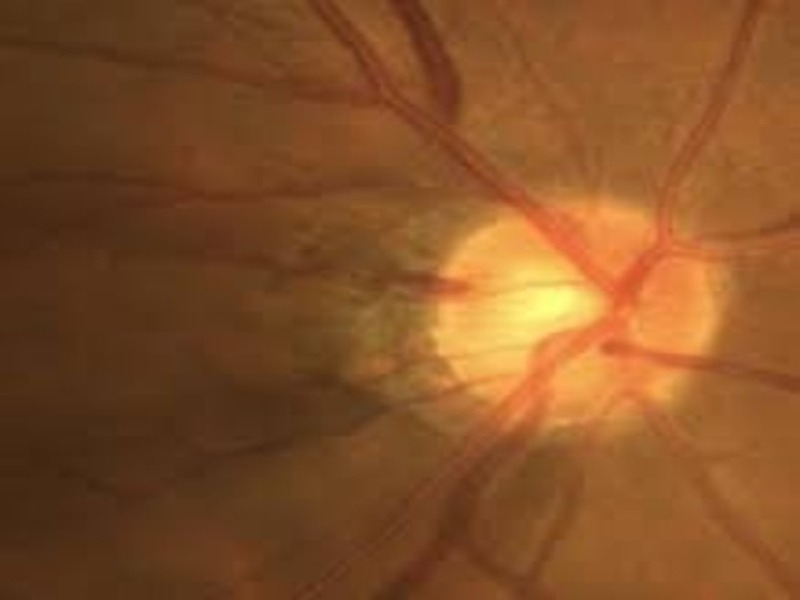Optic Cup: (505, 260, 597, 333)
Optic Disc: (433, 197, 723, 430)
